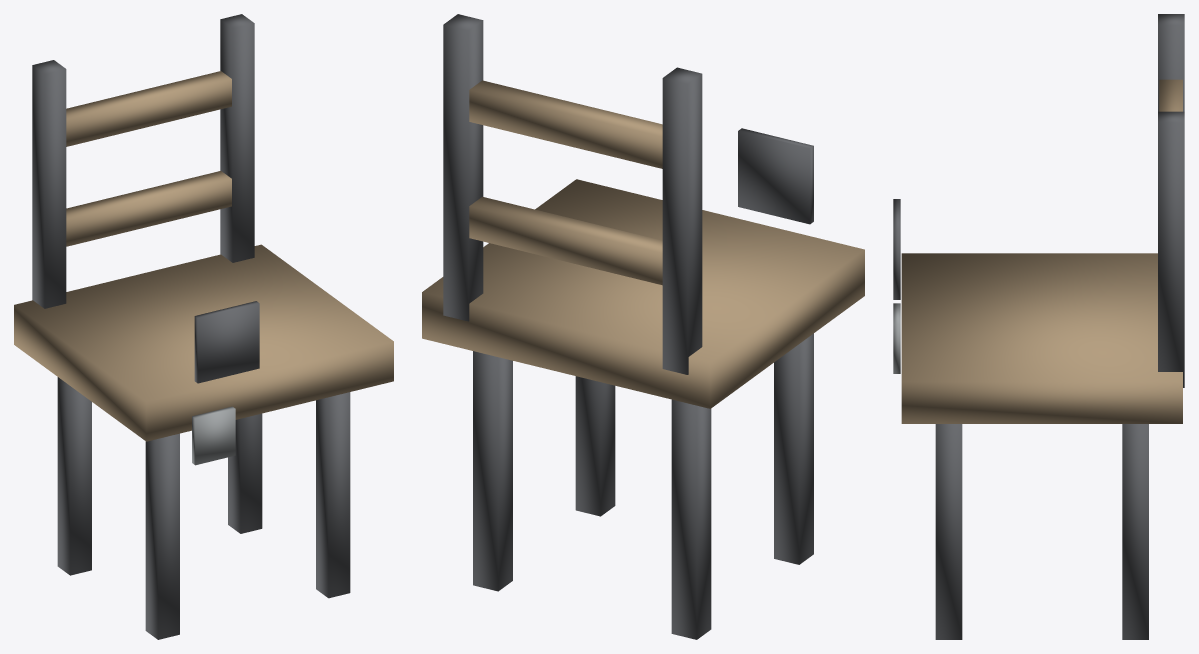
Rendered from dining_chair__weathered.glb.
The picture shows the model from 3 angles, left to right: view 1: azimuth 30°, elevation 25°; view 2: azimuth 150°, elevation 25°; view 3: azimuth 270°, elevation 25°; orthographic projection. The views are drawn at different scales.
Parts seen in each view (by area): view 1: world; view 2: world; view 3: world.
Part boxes in pixels (x1,y1,x2,y2): world: (14,14,393,639); world: (422,14,864,639); world: (893,14,1184,639).
Bounding box in the file's own units: 0.5137 × 0.9743 × 0.4925.
